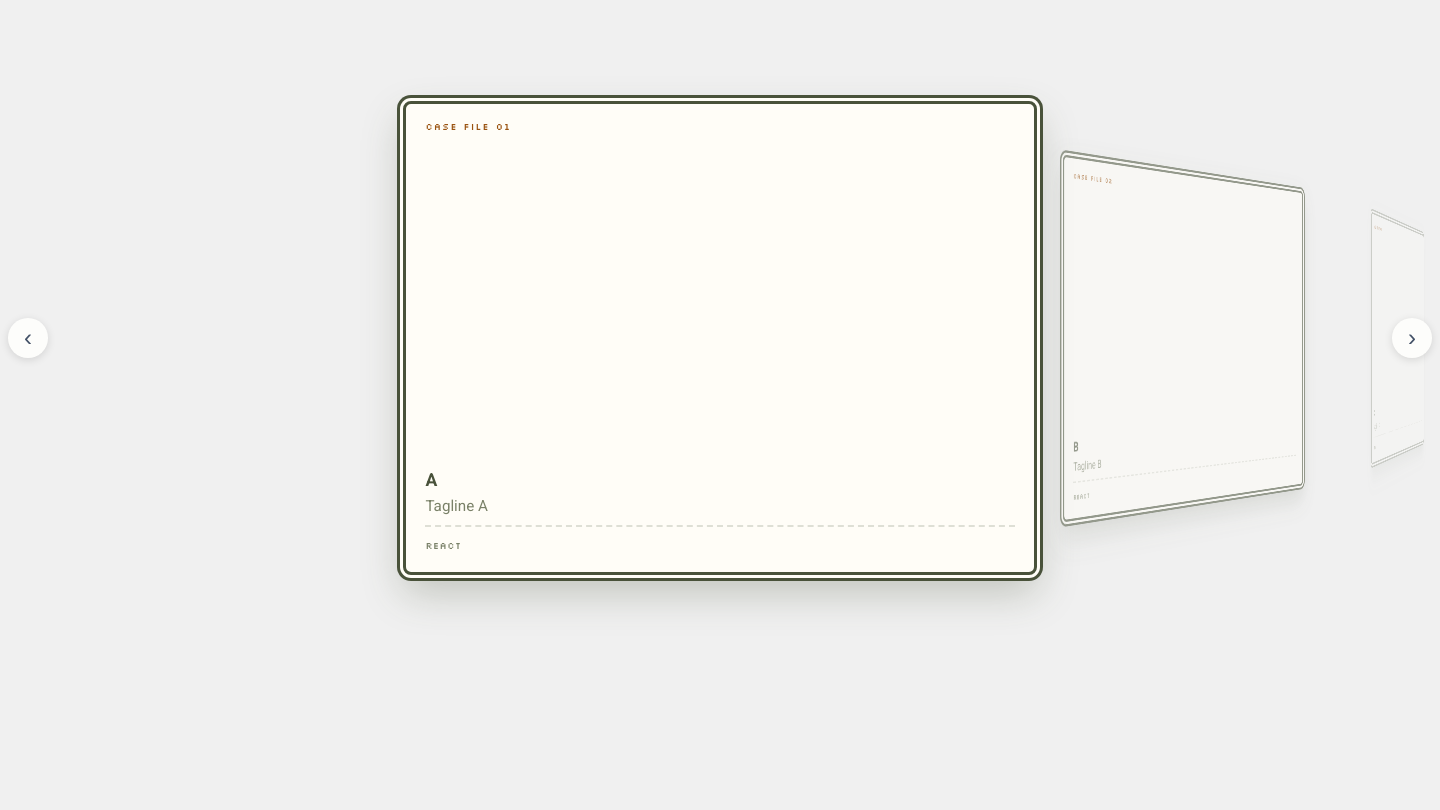
Scenario: clicking the active card opens the overlay with its detail text
This screenshot has width=1440, height=810.
Click the text "A" at (431, 480), box left=425, top=470, right=437, bottom=490
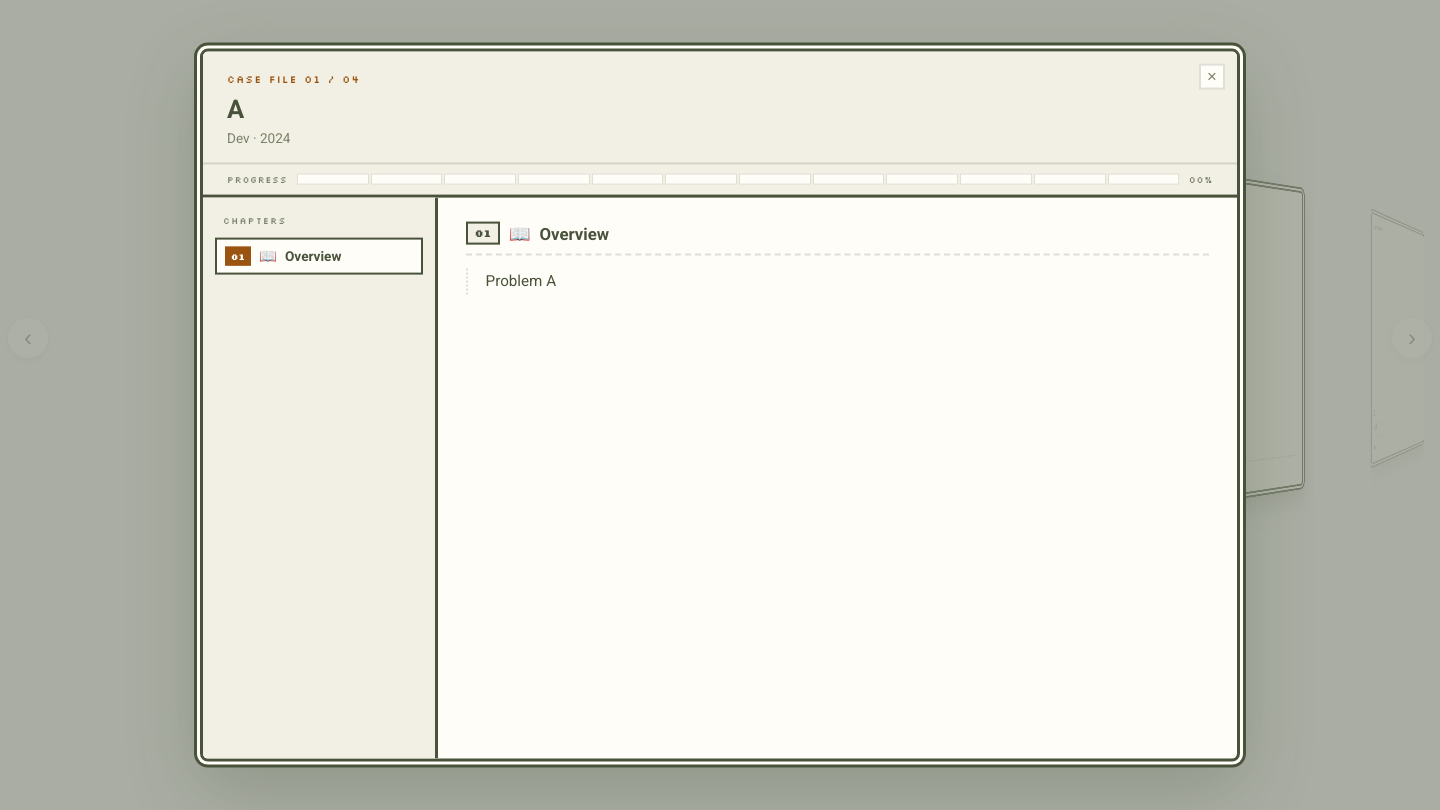
Expected: the text "Problem A" is shown, left=486, top=272, right=556, bottom=290
